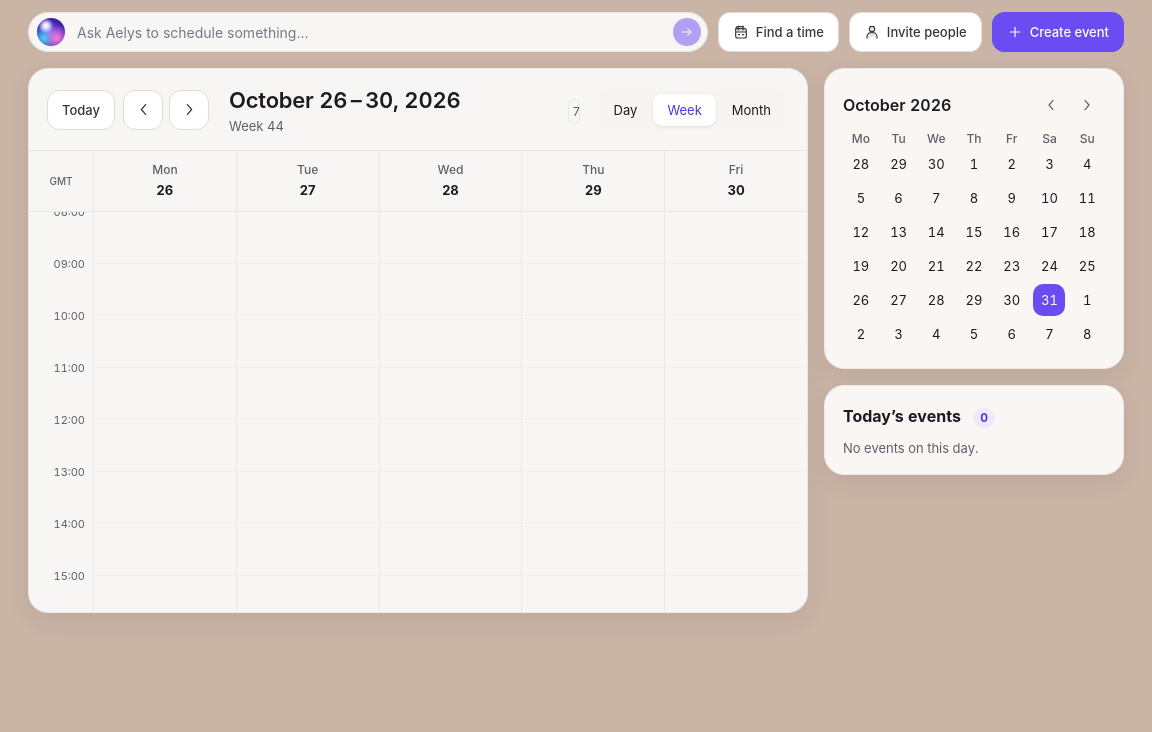
Test case: calendar event creation › navigates weeks and returns to today using the calendar controls
(page scrolled)
Click the button named "Next week".
click(189, 110)  # box [169,90,209,130]
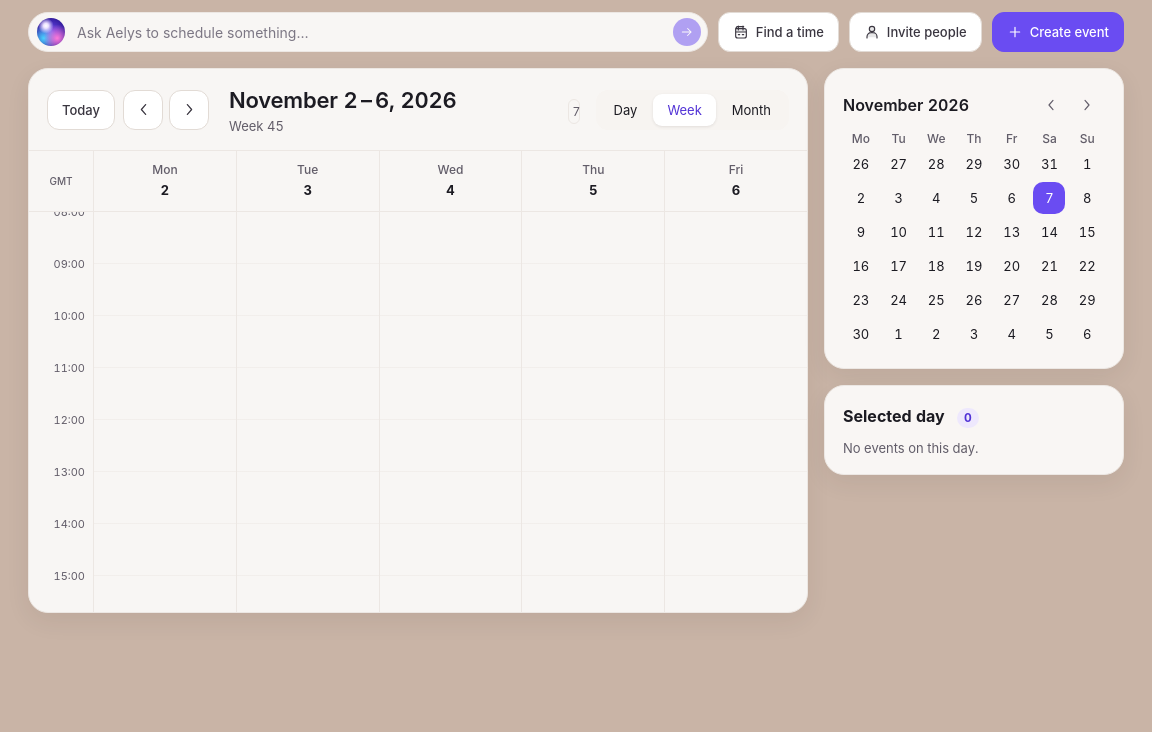
Result: the heading "Selected day 0" is shown at [843,406,979,428]
Click the button "Today".
click(81, 110)  # box [47,90,115,130]
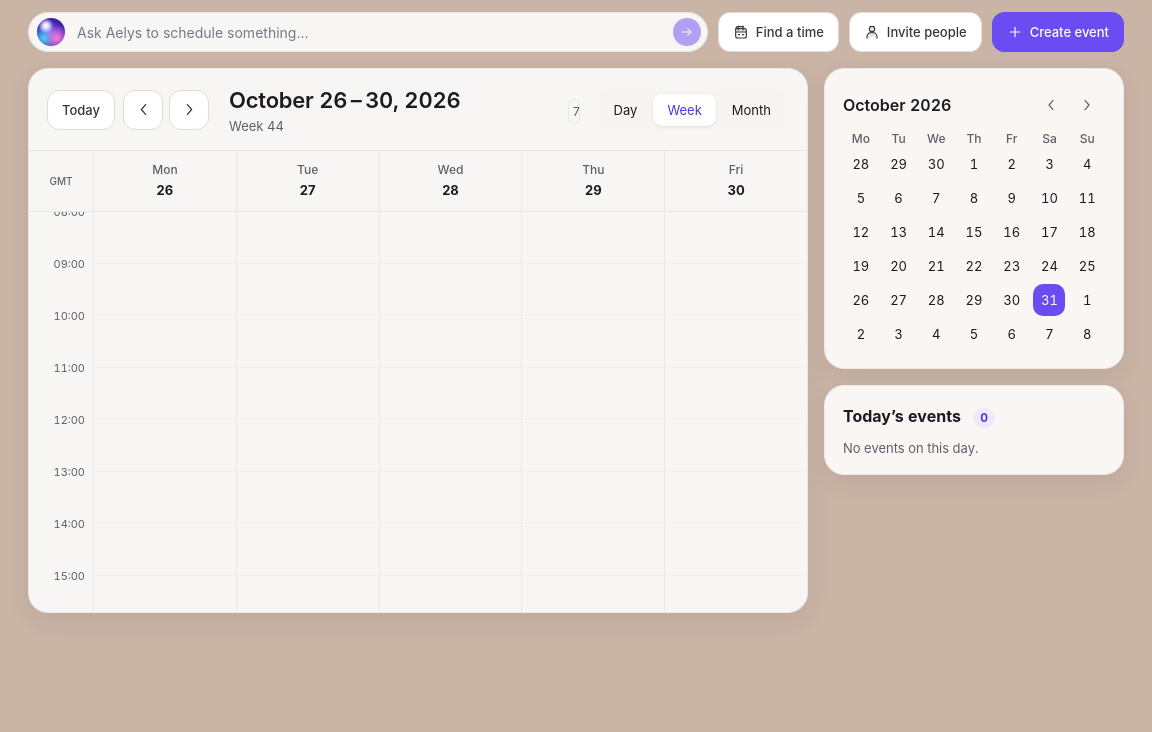
Result: the heading "Today’s events 0" is shown at [843,406,995,428]
